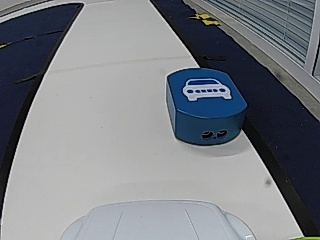safety: (181, 77, 233, 101)
